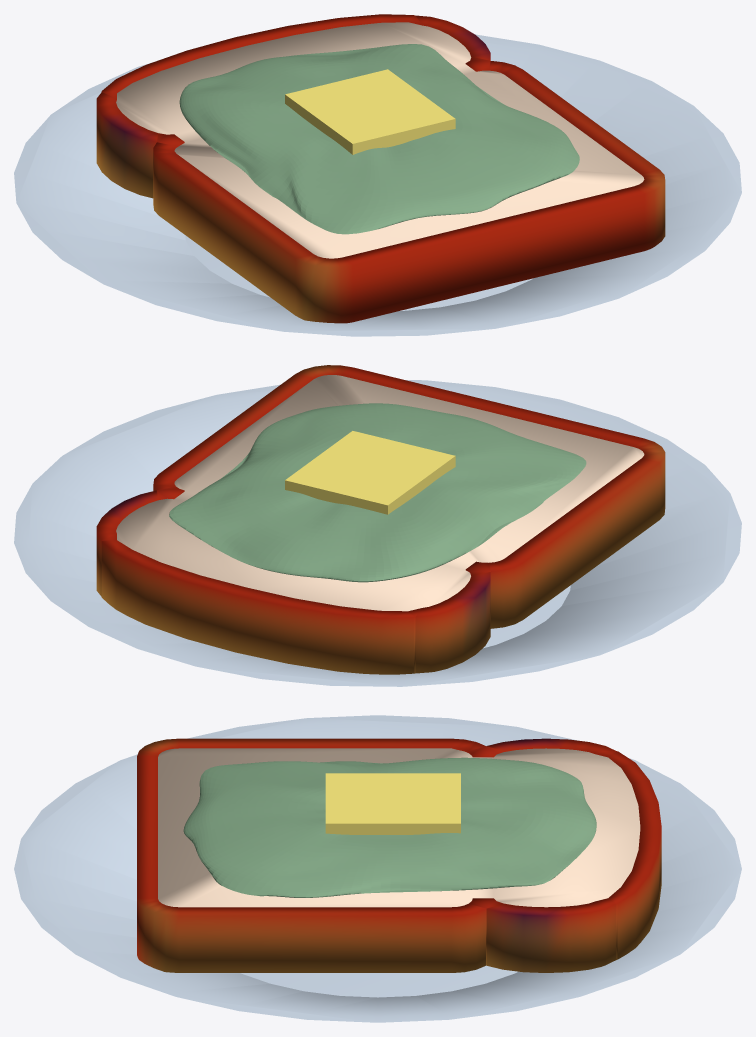
The model's file is toastEat.fbx.
The picture shows the model from 3 angles, top to bottom: view 1: azimuth 30°, elevation 25°; view 2: azimuth 150°, elevation 25°; view 3: azimuth 270°, elevation 25°; orthographic projection.
Parts seen in each view (by area): view 1: Cylinder.002, obj_0.001, Sphere, obj_0, Cube; view 2: Cylinder.002, obj_0.001, Sphere, obj_0, Cube; view 3: Cylinder.002, obj_0.001, Sphere, obj_0, Cube.
Boxes of the visible parts, x1,y1,x2,y2 form: Cylinder.002: (14, 34, 741, 336); obj_0.001: (96, 14, 665, 323); Sphere: (179, 44, 579, 234); obj_0: (116, 22, 644, 258); Cube: (285, 69, 455, 154); Cylinder.002: (14, 380, 741, 686); obj_0.001: (96, 365, 665, 674); Sphere: (169, 403, 586, 582); obj_0: (116, 375, 644, 611); Cube: (285, 431, 455, 514); Cylinder.002: (14, 715, 741, 1022); obj_0.001: (137, 738, 661, 972); Sphere: (183, 757, 596, 897); obj_0: (158, 748, 640, 907); Cube: (325, 773, 460, 834).
Size of the model in its own units: 282 by 56.61 by 282.
